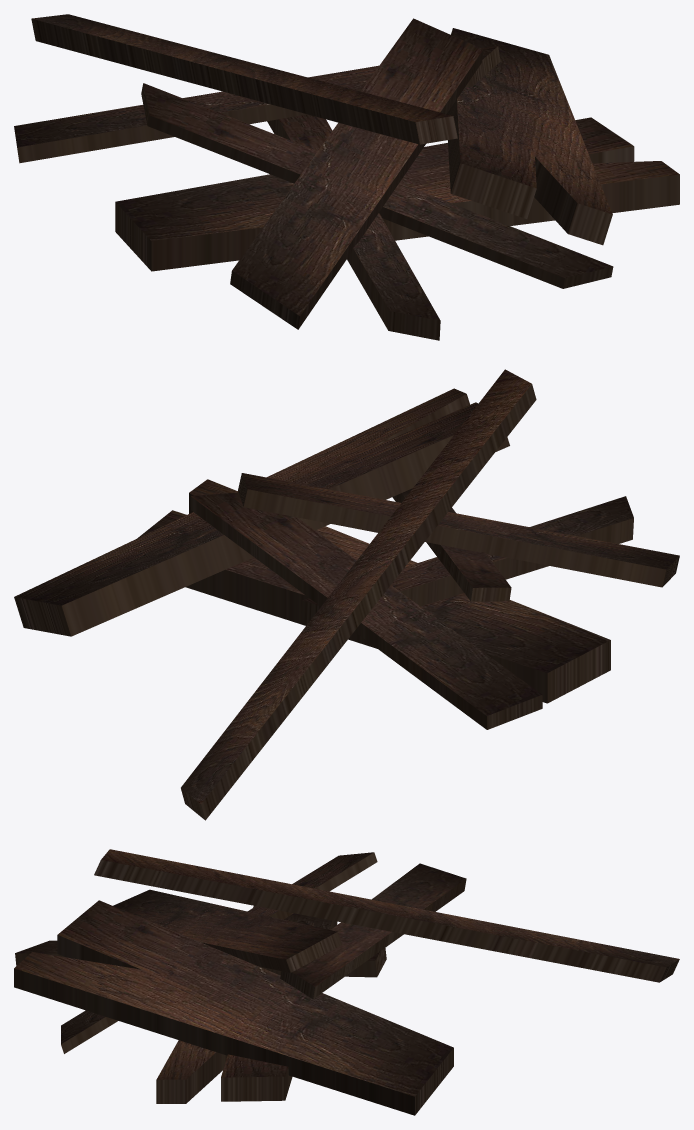
Rendered from kampvuurhout nieuwste.fbx.
The picture shows the model from 3 angles, top to bottom: view 1: azimuth 30°, elevation 25°; view 2: azimuth 150°, elevation 25°; view 3: azimuth 270°, elevation 25°; orthographic projection. The views are drawn at different scales.
Parts seen in each view (by area): view 1: polySurface4, pasted__polySurface1, polySurface1, polySurface3, polySurface6, polySurface5, polySurface2; view 2: pasted__polySurface1, polySurface6, polySurface5, polySurface1, polySurface4, polySurface2, polySurface3; view 3: pasted__polySurface1, polySurface6, polySurface4, polySurface5, polySurface1, polySurface3, polySurface2.
Part boxes in pixels (x1,y1,x2,y2): polySurface4: (230,18,483,329); pasted__polySurface1: (447,28,612,245); polySurface1: (115,117,679,271); polySurface3: (141,83,613,288); polySurface6: (31,14,457,144); polySurface5: (14,46,500,163); polySurface2: (267,114,440,340); pasted__polySurface1: (14,388,509,636); polySurface6: (181,369,536,820); polySurface5: (190,492,542,729); polySurface1: (137,479,610,703); polySurface4: (238,473,679,587); polySurface2: (301,496,633,623); polySurface3: (392,488,511,601); pasted__polySurface1: (14,900,453,1115); polySurface6: (94,849,679,982); polySurface4: (113,889,342,972); polySurface5: (280,863,466,998); polySurface1: (156,905,337,1103); polySurface3: (61,852,377,1053); polySurface2: (15,940,386,977).
Size of the model in its own units: 8.87 by 2.92 by 12.1.
2 materials, 2 textured.
